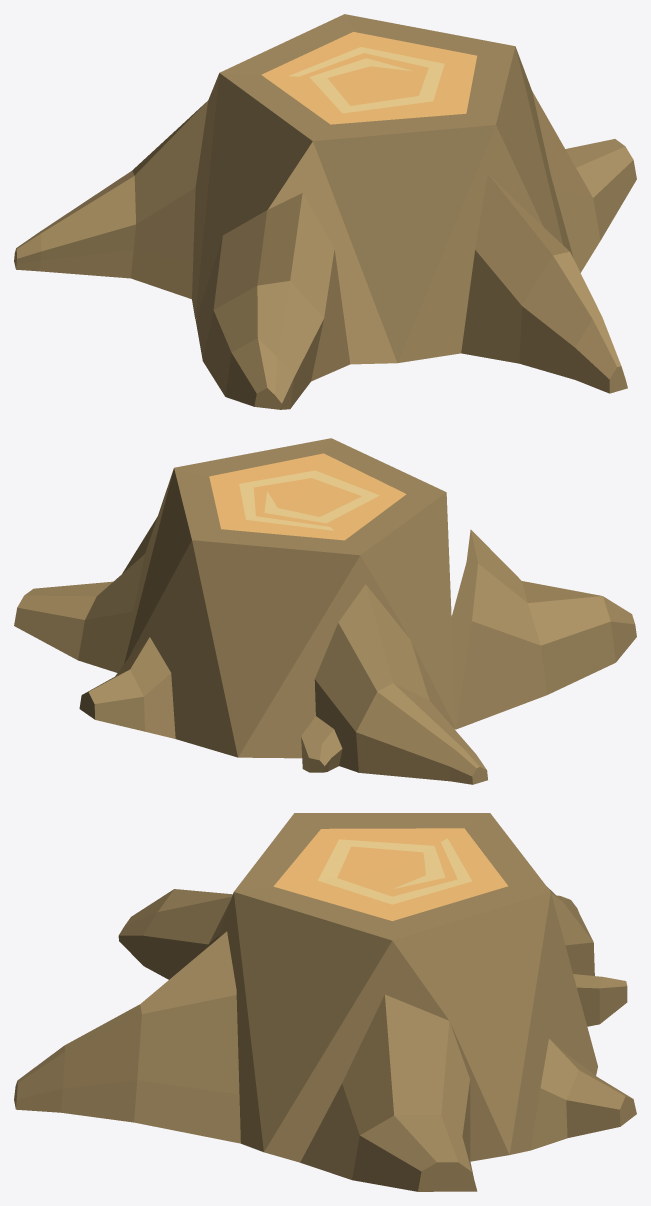
Rendered from tronco.fbx.
3 views of the same model, one above another, from view 1: azimuth 30°, elevation 25°; view 2: azimuth 150°, elevation 25°; view 3: azimuth 270°, elevation 25° (orthographic). The views are drawn at different scales.
Parts seen in each view (by area): view 1: Icosphere; view 2: Icosphere; view 3: Icosphere.
Part boxes in pixels (left/top/right/bottom): Icosphere: left=14, top=14, right=636, bottom=409; Icosphere: left=14, top=438, right=636, bottom=784; Icosphere: left=14, top=813, right=636, bottom=1191.
Size of the model in its own units: 257 by 89.88 by 238.
